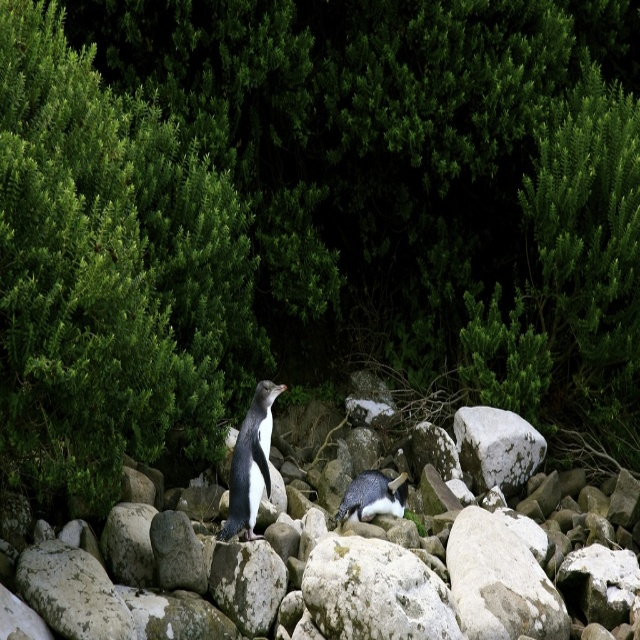Penguin: (218, 380, 288, 542), (332, 467, 409, 530)
